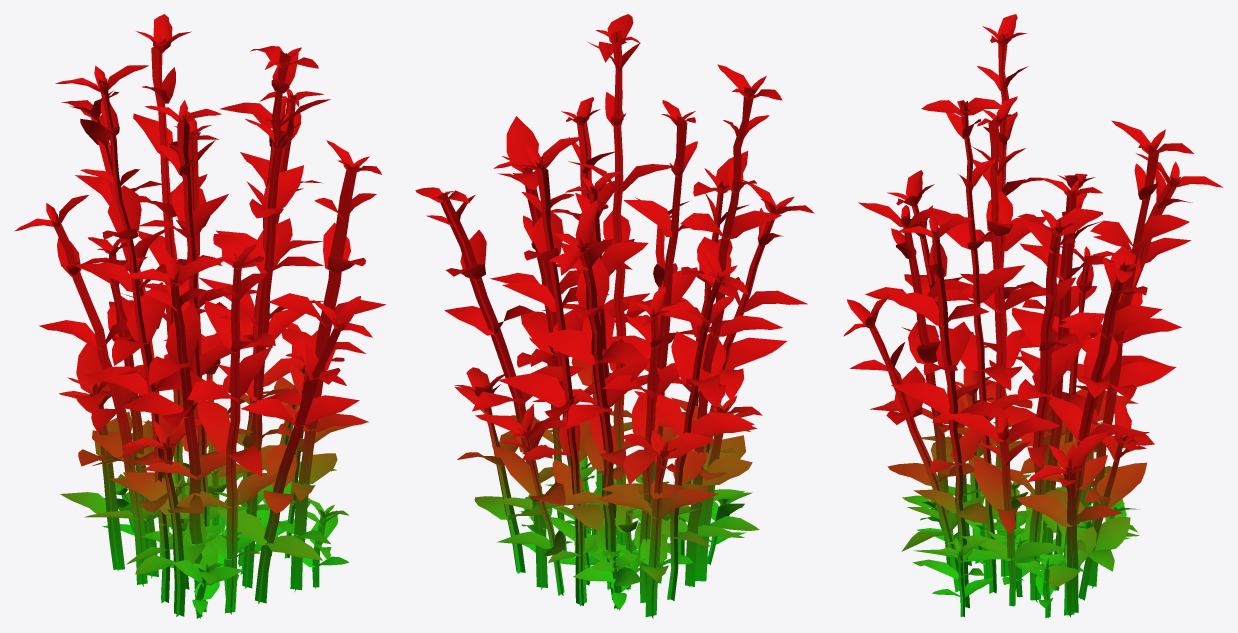
File: SM_Peppermint_1.fbx
The picture shows the model from 3 angles, left to right: view 1: azimuth 30°, elevation 25°; view 2: azimuth 150°, elevation 25°; view 3: azimuth 270°, elevation 25°; orthographic projection. The views are drawn at different scales.
Visible parts, largest first — view 1: _6xep_Var1_LOD3; view 2: _6xep_Var1_LOD3; view 3: _6xep_Var1_LOD3.
Boxes of the visible parts, <box> form: _6xep_Var1_LOD3: <box>14,14,385,618</box>; _6xep_Var1_LOD3: <box>415,14,814,618</box>; _6xep_Var1_LOD3: <box>843,14,1223,618</box>.
Bounding box in the file's own units: 37.6 × 60.12 × 40.77.
